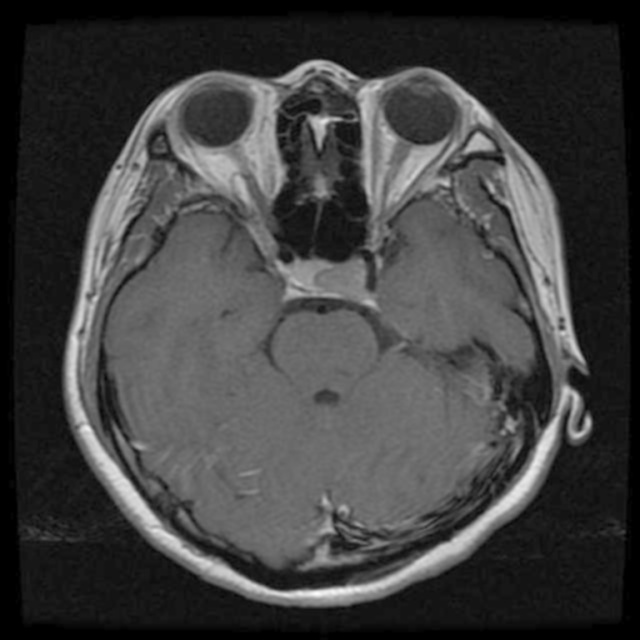no tumor: (294, 246, 376, 306)
